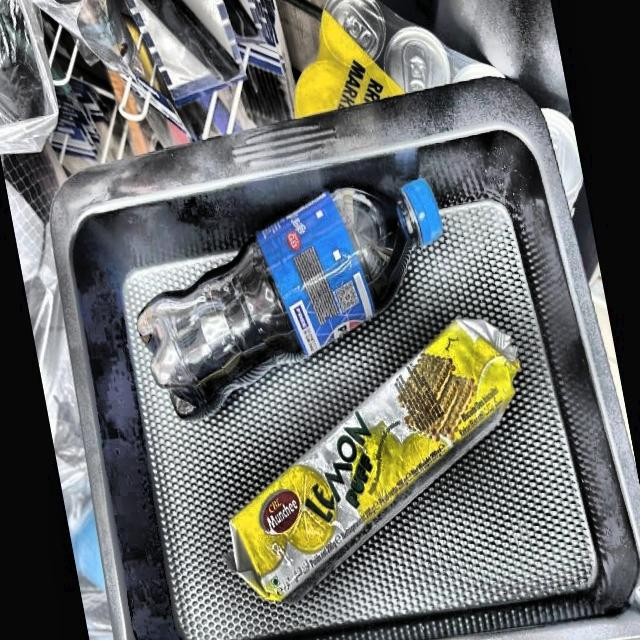lemon puff: (223, 319, 522, 605)
pepsi-bottle: (122, 186, 452, 403)
